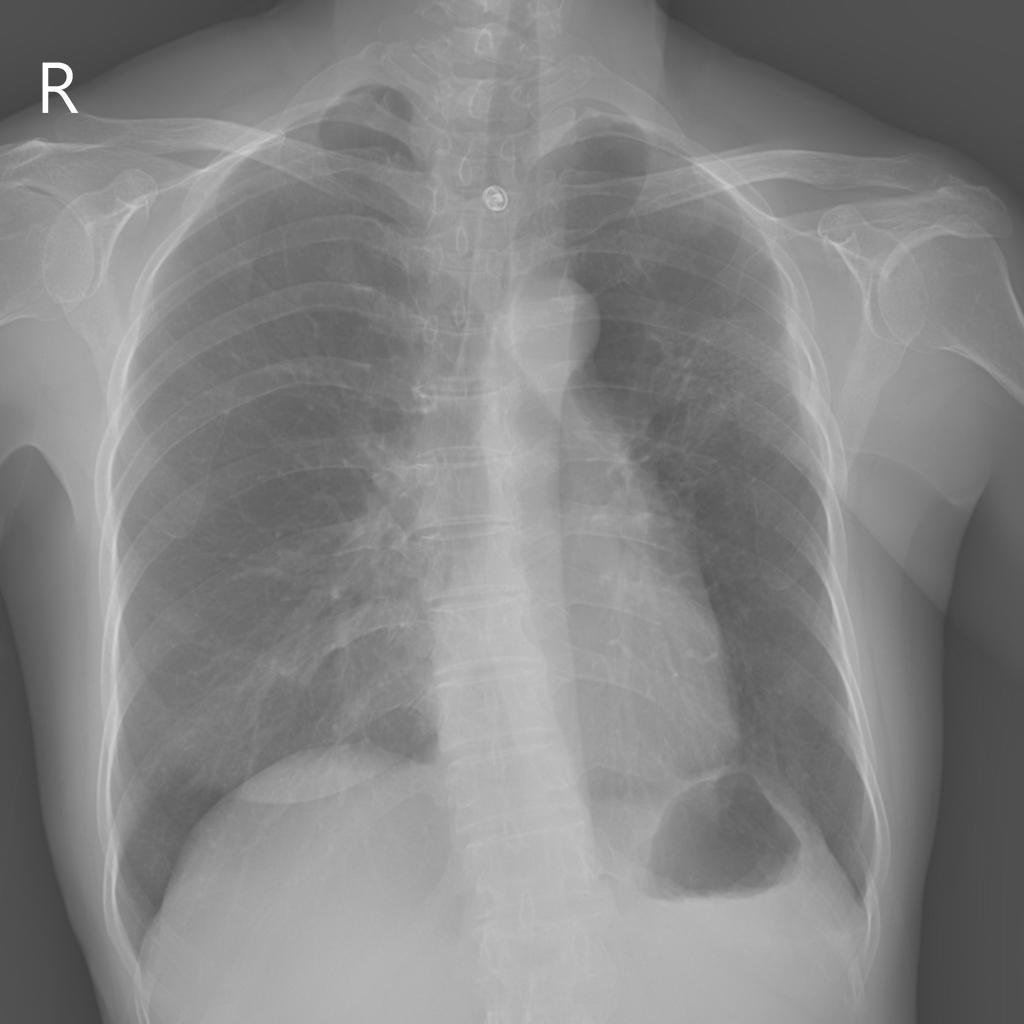Nodule: (680, 203, 719, 235)
